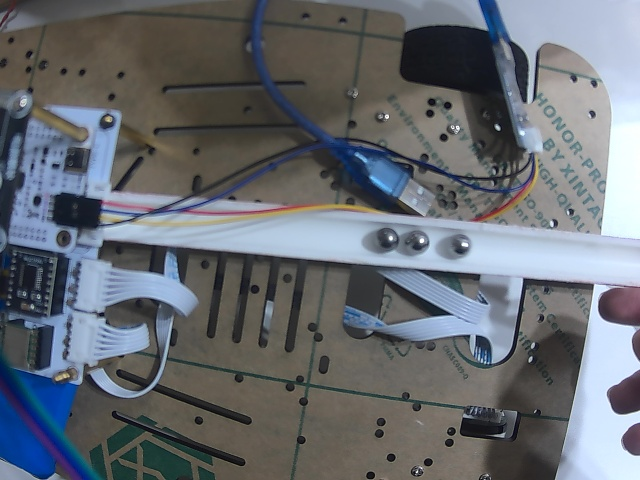steelball: (405, 230, 430, 255), (375, 227, 399, 251), (448, 233, 471, 256)
